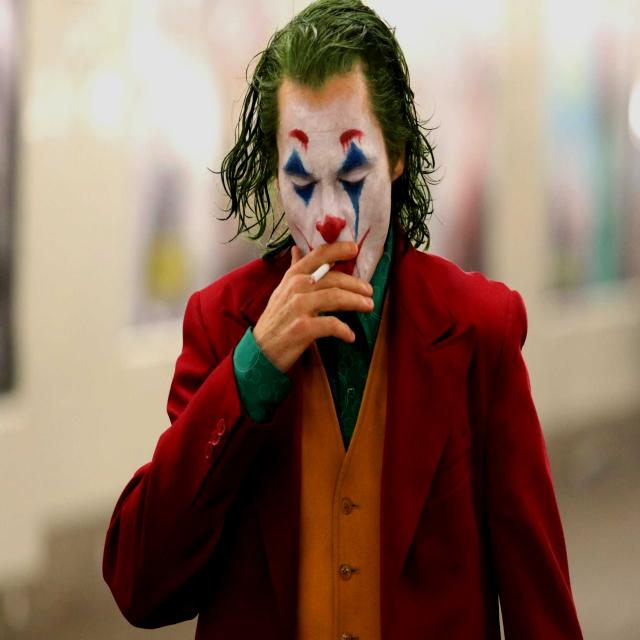Smooking: (302, 252, 344, 290)
